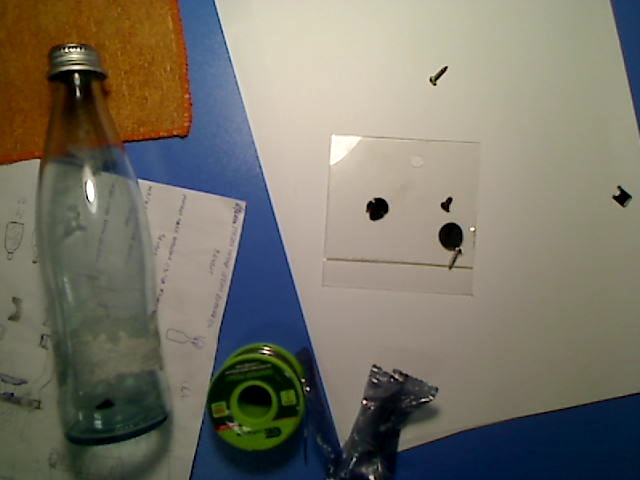bottle: (35, 43, 175, 446)
